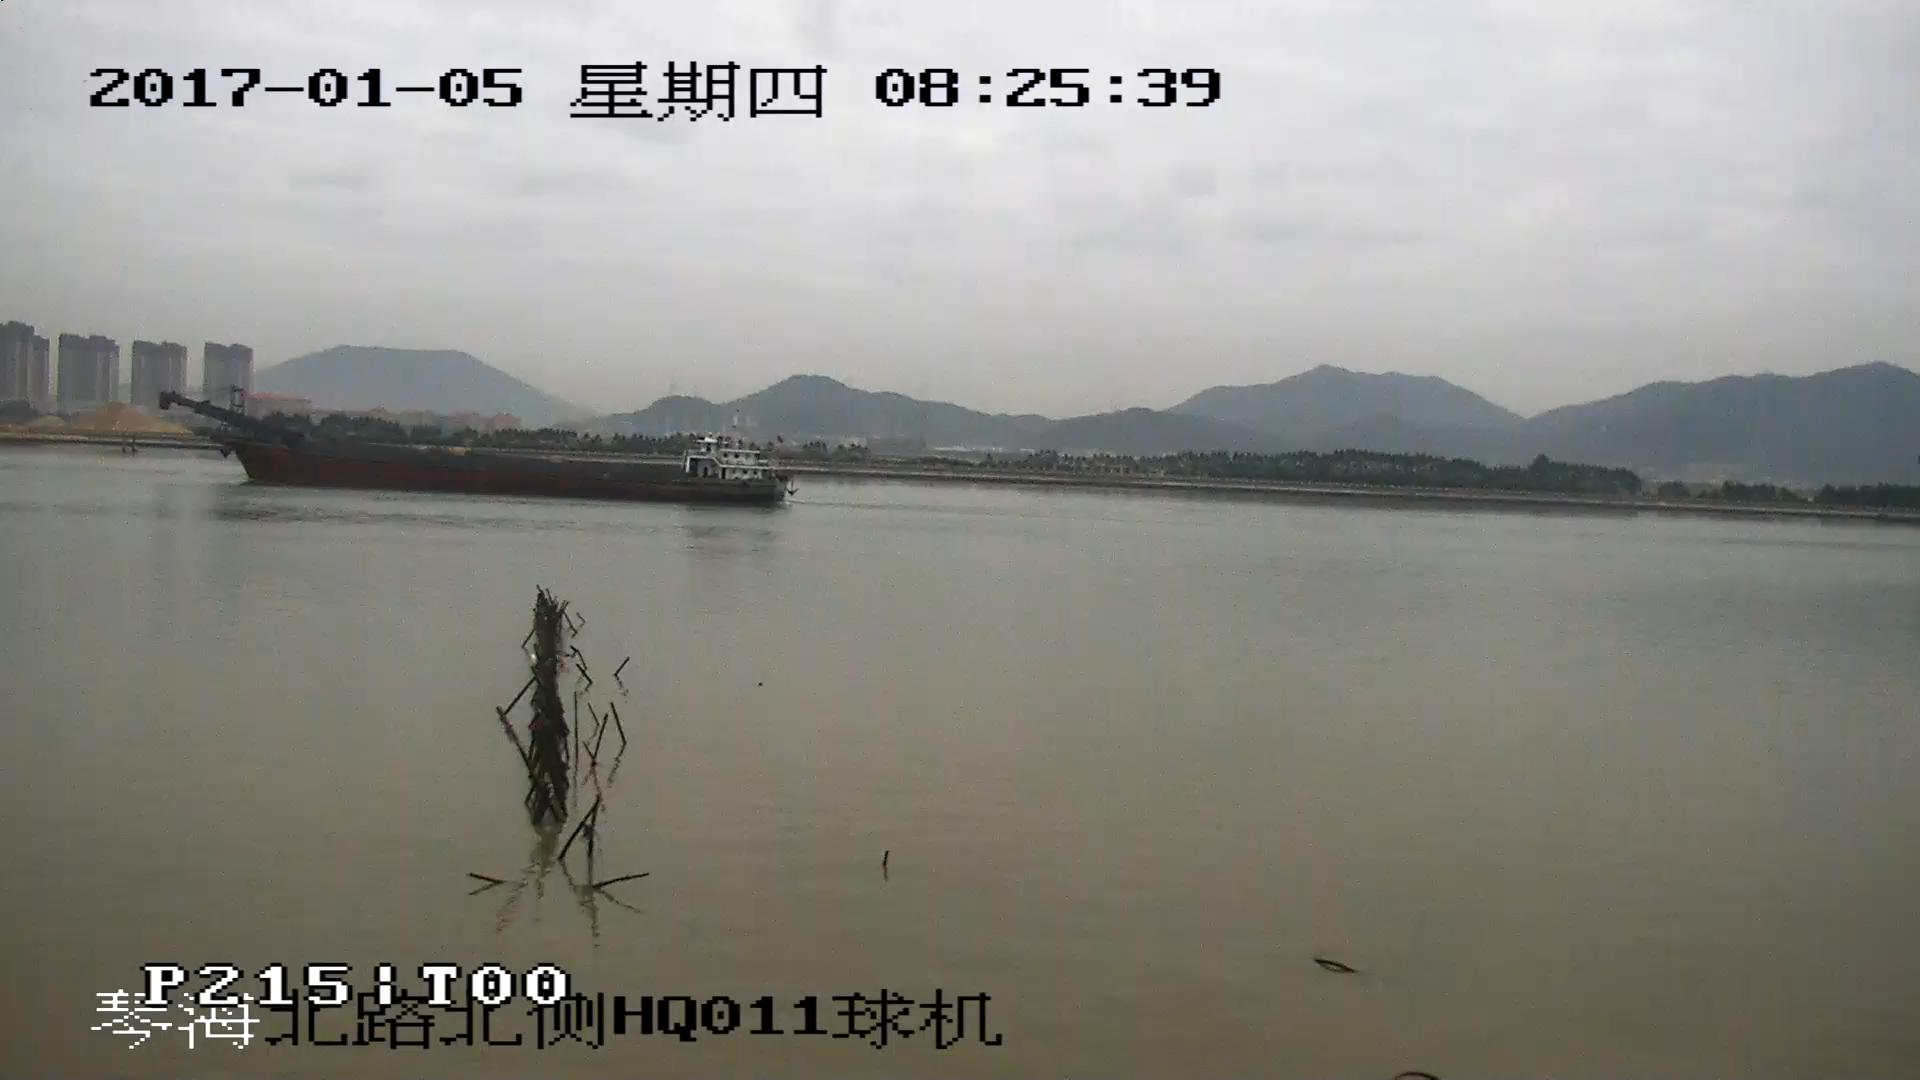bulk cargo carrier: (162, 391, 793, 507)
